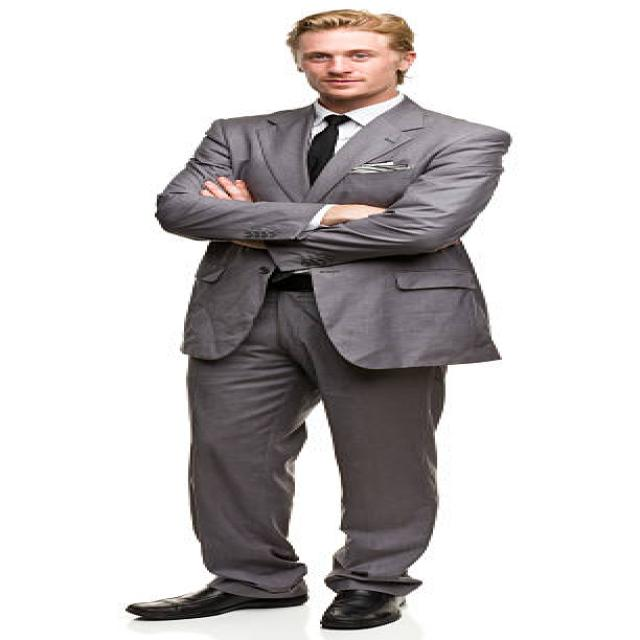Edited images: (120, 2, 530, 636)
